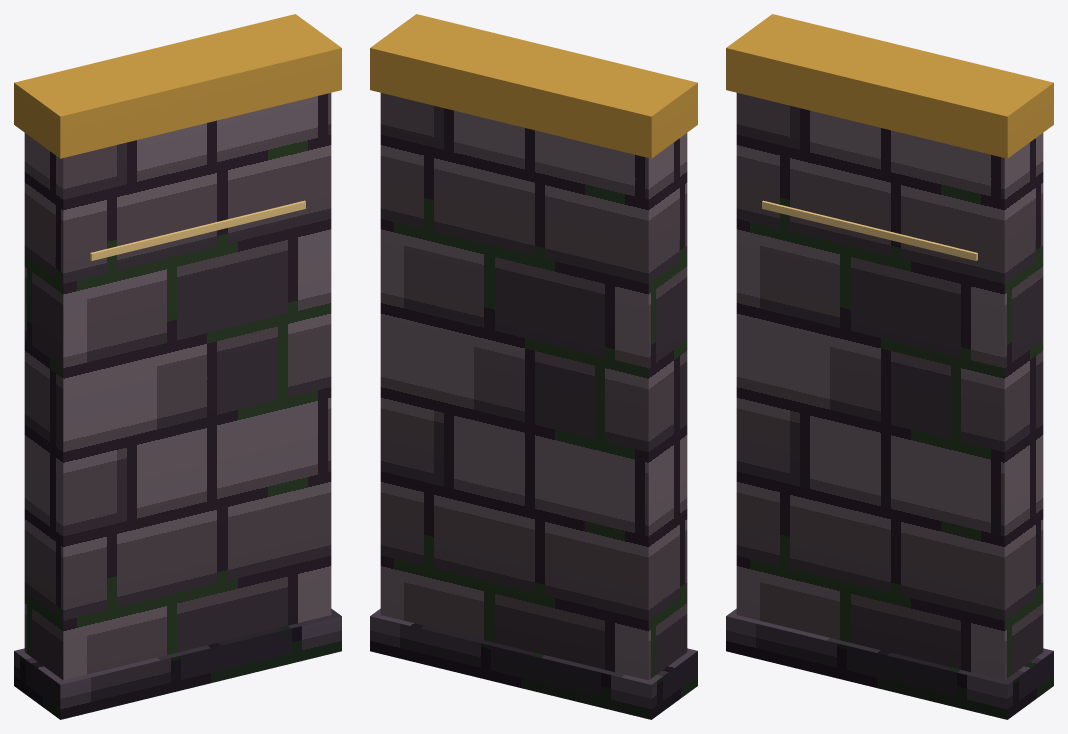
Rendered from marble_wall.glb.
3 renders of one model, left to right at view 1: azimuth 30°, elevation 25°; view 2: azimuth 150°, elevation 25°; view 3: azimuth 330°, elevation 25°, orthographic.
Parts seen in each view (by area): view 1: marble_wall; view 2: marble_wall; view 3: marble_wall.
Boxes of the visible parts, x1,y1,x2,y2 form: marble_wall: (14, 14, 341, 719); marble_wall: (370, 14, 697, 719); marble_wall: (726, 14, 1053, 719).
Bounding box in the file's own units: 2.1 × 4.3 × 0.6.
Materials: 2 (1 with a texture image).
